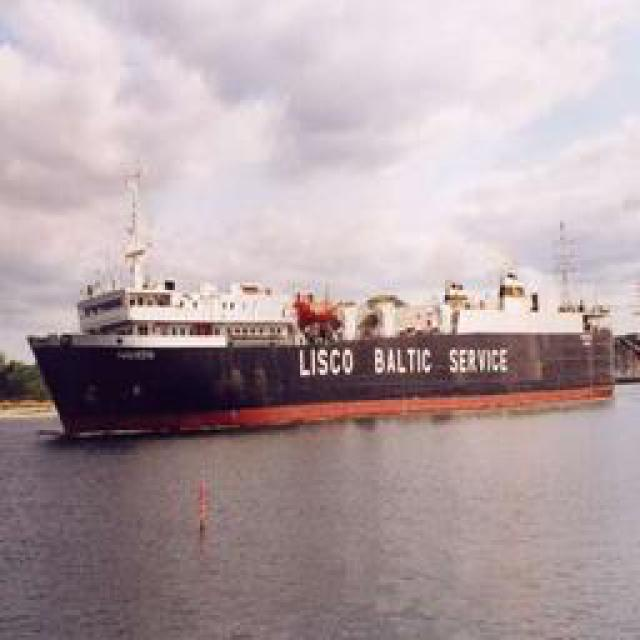Ship: (32, 220, 625, 428)
